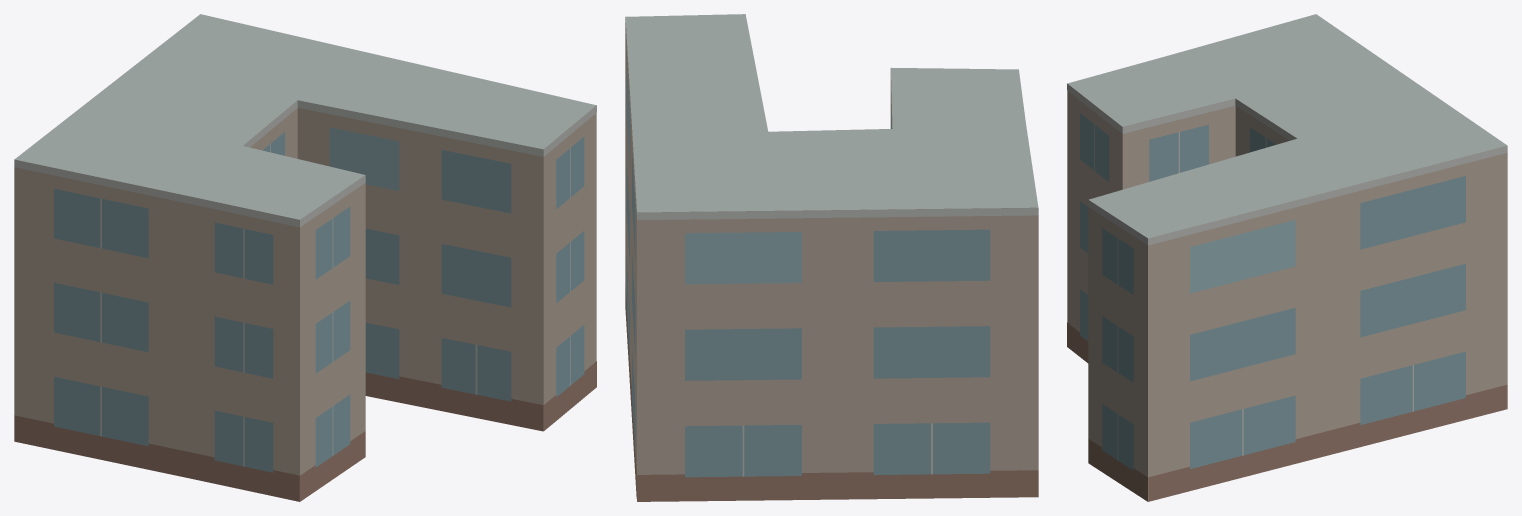
The model's file is survey-upis-32912099.glb.
3 renders of one model, left to right at view 1: azimuth 30°, elevation 25°; view 2: azimuth 150°, elevation 25°; view 3: azimuth 270°, elevation 25°, orthographic. The views are drawn at different scales.
Visible parts, largest first — view 1: survey-upis-32912099.tmp; view 2: survey-upis-32912099.tmp; view 3: survey-upis-32912099.tmp.
Part boxes in pixels (x1,y1,x2,y2): survey-upis-32912099.tmp: [14, 14, 596, 501]; survey-upis-32912099.tmp: [625, 14, 1038, 501]; survey-upis-32912099.tmp: [1067, 14, 1507, 501].
Size of the model in its own units: 16.73 by 9.15 by 13.88.
